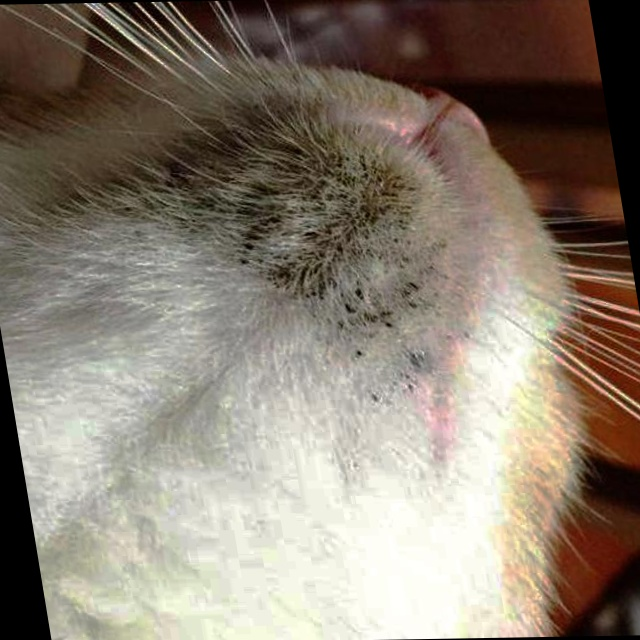acne: (151, 104, 467, 375)
